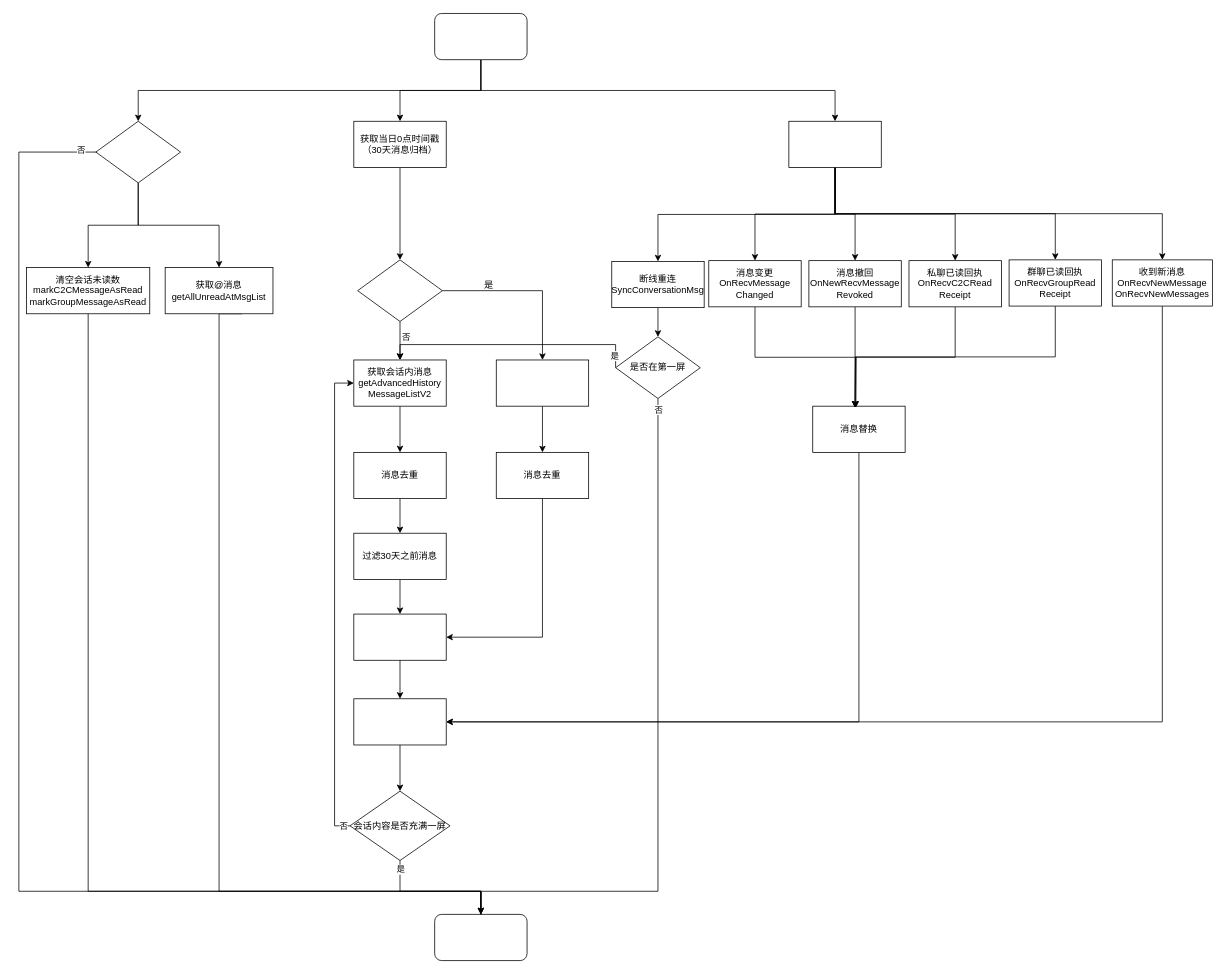
Image size: 1226x974. Some labels were removed from this diagram. Here are the shapes that lost their labels. From the top down, the centre of each, then its label:
At [480,36]: "进入会话".
At [138,152]: "会话存在未读数".
At [834,144]: "消息监听".
At [399,290]: "是否搜索消息跳转".
At [542,382]: "获取目标消息前后各10条数据".
At [399,636]: "对比相邻消息 是否渲染发送时间等".
At [399,721]: "视图渲染".
At [480,937]: "结束".
